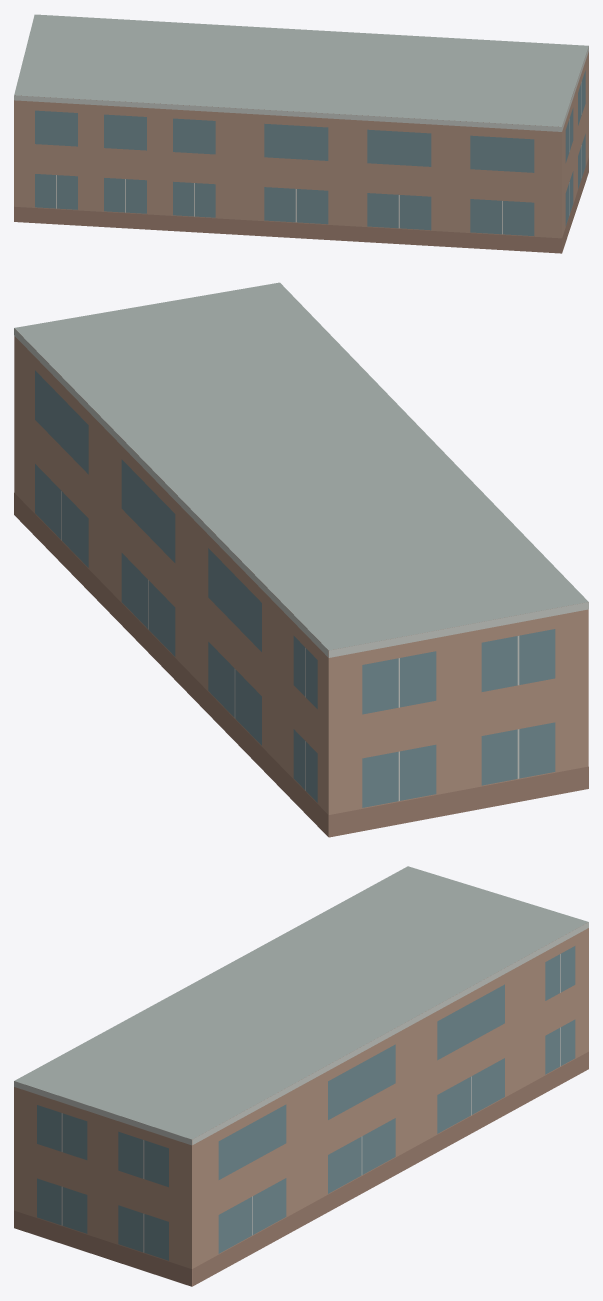
Rendered from survey-upis-32578557.glb.
3 views of the same model, one above another, from view 1: azimuth 30°, elevation 25°; view 2: azimuth 150°, elevation 25°; view 3: azimuth 270°, elevation 25° (orthographic). The views are drawn at different scales.
Visible parts, largest first — view 1: survey-upis-32578557.tmp; view 2: survey-upis-32578557.tmp; view 3: survey-upis-32578557.tmp.
Part boxes in pixels (x1=…): survey-upis-32578557.tmp: x1=14, y1=14, x2=588, y2=253; survey-upis-32578557.tmp: x1=14, y1=282, x2=588, y2=837; survey-upis-32578557.tmp: x1=14, y1=866, x2=588, y2=1286.
Size of the model in its own units: 24.32 by 6.1 by 21.6.
